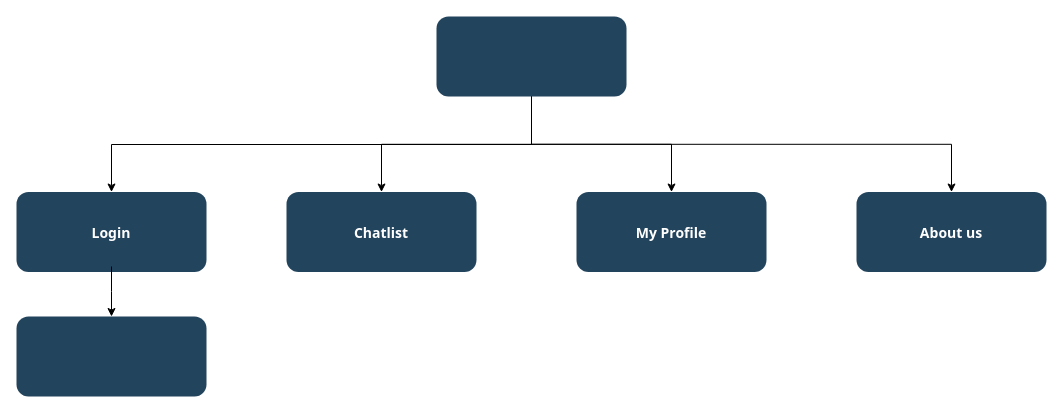
Image size: 1063x413. Some labels were removed from this diagram. Here are the shapes that lost their labels. From the top down, the centre of each, then its label:
(x=531, y=56): Homepage
(x=111, y=356): Register
